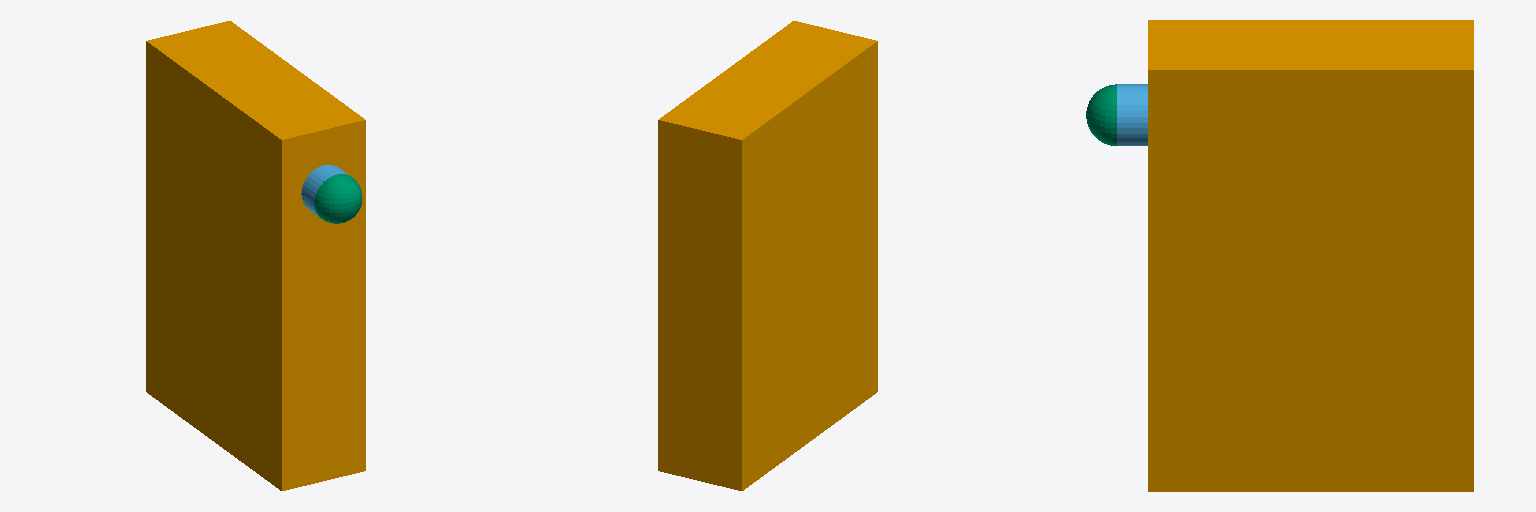
robot.urdf — myfirst:
<?xml version="1.0"?>
<robot name="myfirst">
  <link name="base_link">
    <visual>
      <origin rpy="0 0 0" xyz="0 0 -0.2" />
      <geometry>
        <box size="0.15 0.42 0.6" />
      </geometry>
    </visual>
  </link>

  <link name="base_extension">
    <visual>
      <origin rpy="0 0 0" xyz="0 0 0.02"/>
      <geometry>
        <cylinder length="0.04" radius="0.04"/>
      </geometry>
    </visual>
  </link>

  <link name="shoulder">
    <visual>
      <geometry>
        <sphere radius="0.04"/>
      </geometry>
    </visual>
  </link>

  <joint name="base_to_extension" type="fixed">
    <origin rpy="1.570796 0 0" xyz="0 -0.21 0" />
    <parent link="base_link"/>
    <child link="base_extension"/> 
  </joint>

  <joint name="t1" type="revolute">
    <axis xyz="0 0 1" />
    <limit effort="1000.0" lower="0.0" upper="0.548" velocity="0.5" />
    <origin rpy="1.570796 0 0" xyz="0 0 0.04"/>
    <parent link="base_extension"/>
    <child link="shoulder"/>
  </joint>

</robot>

--- What the picture shows (computed from the rendered views, not written in the file) ---
3 views of the same robot in one strip: view 1: azimuth 30°, elevation 25°; view 2: azimuth 150°, elevation 25°; view 3: azimuth 270°, elevation 25° (orthographic).
Model myfirst with 3 links and 2 joints (1 revolute, 1 fixed), rooted at base_link, posed every joint at zero.
Links seen in each view (by area): view 1: base_link, shoulder, base_extension; view 2: base_link; view 3: base_link, base_extension, shoulder.
Boxes of the visible links, x1,y1,x2,y2 form: base_link: (146, 21, 365, 490); shoulder: (314, 174, 362, 223); base_extension: (301, 165, 349, 216); base_link: (658, 21, 877, 490); base_link: (1148, 20, 1473, 491); base_extension: (1117, 84, 1147, 145); shoulder: (1086, 84, 1116, 145).
Size in the robot's own frame: 0.15 by 0.5 by 0.6 metres.
Geometry: primitives only (box / cylinder / sphere), no mesh files.
